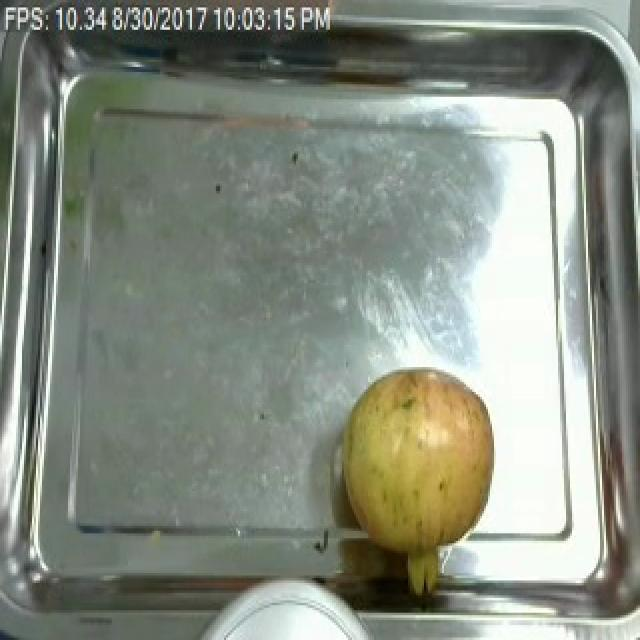fruit: (330, 350, 500, 573)
